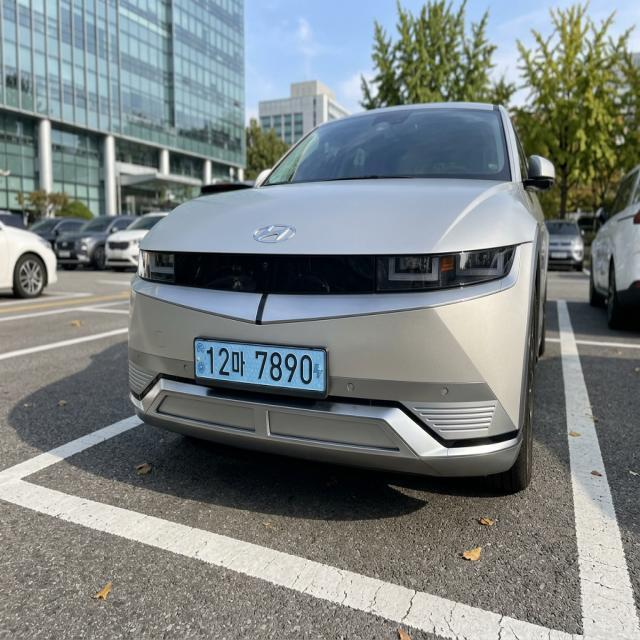car: (175, 326, 353, 414)
carev: (311, 346, 328, 403), (191, 332, 207, 390)
